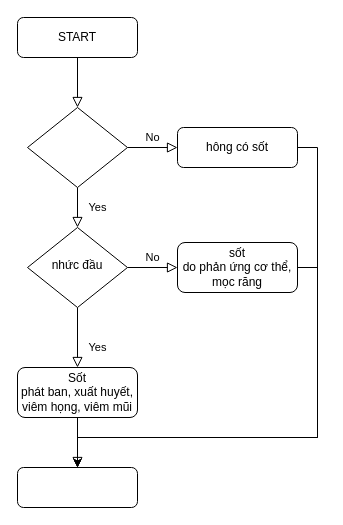
Image size: 343x525. Some labels were removed from this diagram. Each missing label, with the centre of its shape:
38 độ: (77,147)
END: (77,487)
